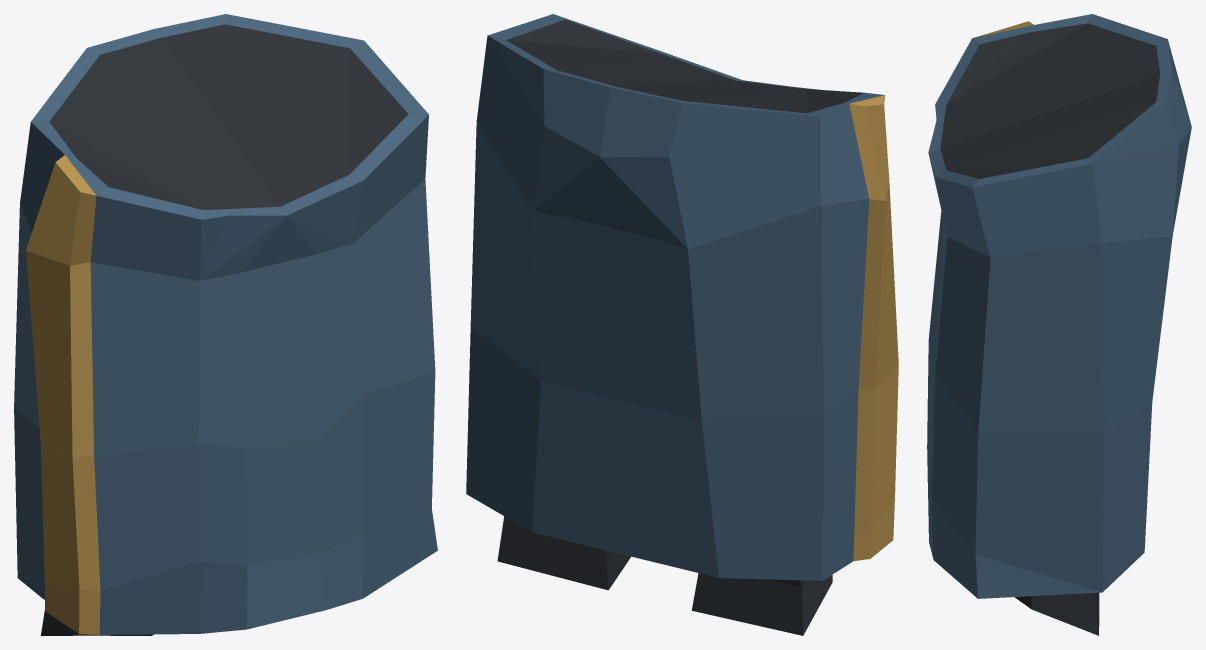
Rendered from Chr_Hips_Female_08_Static.fbx.
3 renders of one model, left to right at view 1: azimuth 30°, elevation 25°; view 2: azimuth 150°, elevation 25°; view 3: azimuth 270°, elevation 25°, orthographic. The views are drawn at different scales.
Visible parts, largest first — view 1: Chr_Hips_Female_08_Static; view 2: Chr_Hips_Female_08_Static; view 3: Chr_Hips_Female_08_Static.
Boxes of the visible parts, x1,y1,x2,y2 form: Chr_Hips_Female_08_Static: (14,14,437,635); Chr_Hips_Female_08_Static: (466,14,898,635); Chr_Hips_Female_08_Static: (927,14,1191,635).
Bounding box in the file's own units: 0.4304 × 0.5806 × 0.2792.
